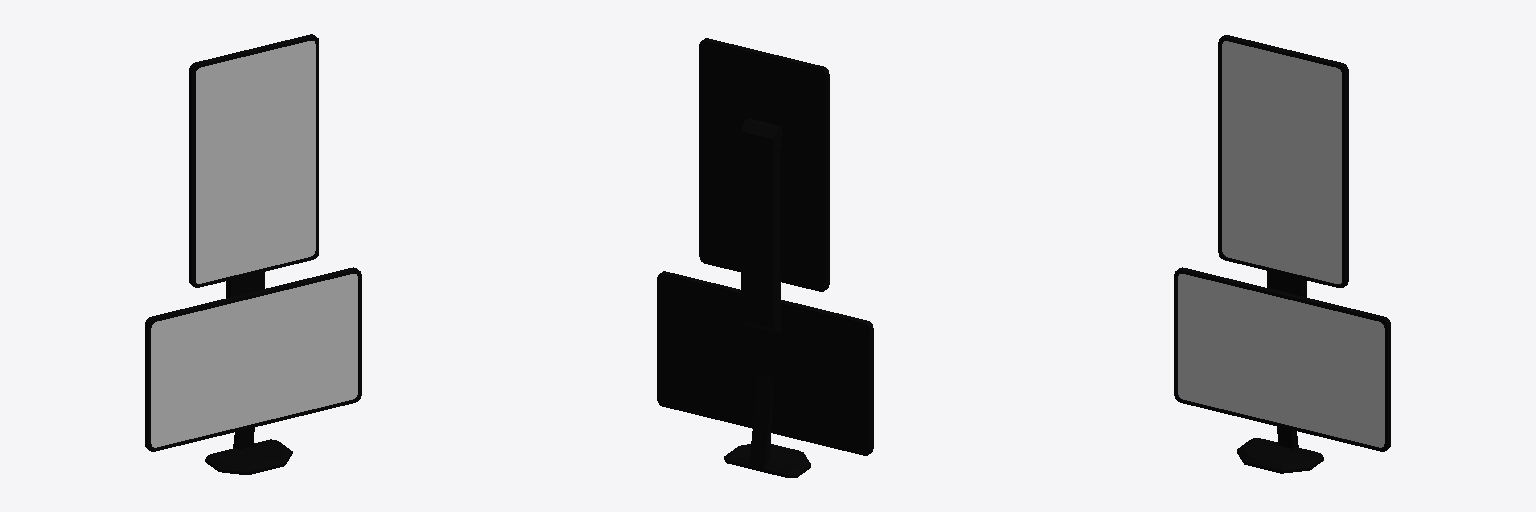
File: display.002.obj
The picture shows the model from 3 angles: view 1: azimuth 30°, elevation 25°; view 2: azimuth 150°, elevation 25°; view 3: azimuth 330°, elevation 25°; orthographic projection.
Parts seen in each view (by area): view 1: display.002; view 2: display.002; view 3: display.002.
Part boxes in pixels (x1,y1,x2,y2): display.002: (145,34,361,474); display.002: (657,38,873,477); display.002: (1174,35,1390,473).
Bounding box in the file's own units: 0.684 × 1.25 × 0.1516.